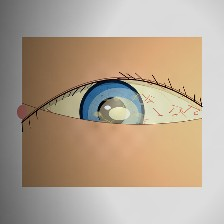corneal_ulcer: (87, 89, 151, 141)
